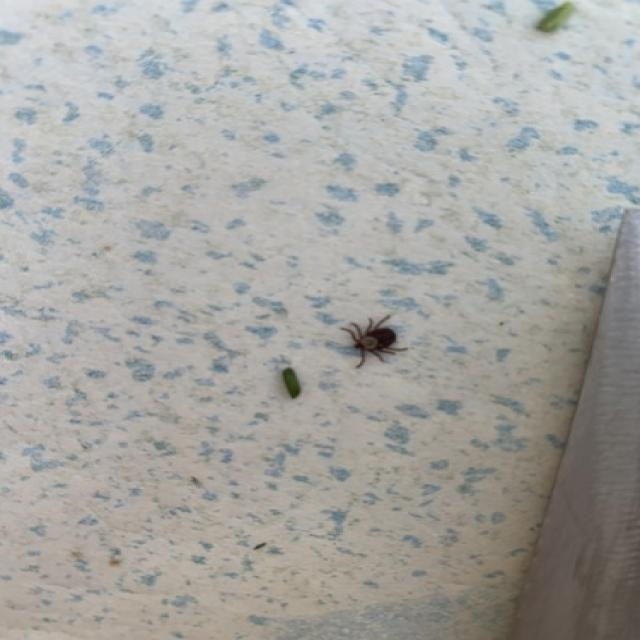Dermacentor Reticulatus-F: (340, 315, 408, 369)
